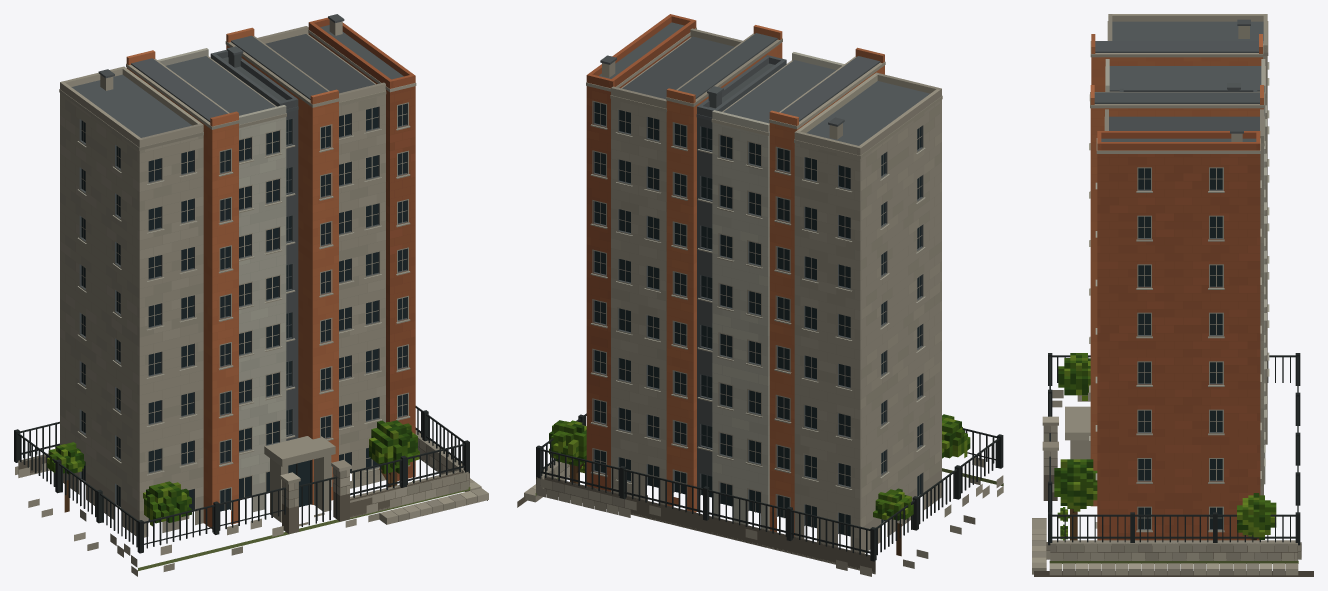
File: SM_StreetFrontage_128.fbx
The picture shows the model from 3 angles, left to right: view 1: azimuth 30°, elevation 25°; view 2: azimuth 150°, elevation 25°; view 3: azimuth 270°, elevation 25°; orthographic projection. The views are drawn at different scales.
Visible parts, largest first — view 1: SM_StreetFrontage_128; view 2: SM_StreetFrontage_128; view 3: SM_StreetFrontage_128.
Boxes of the visible parts, bbox=[...] form: SM_StreetFrontage_128: bbox=[14, 14, 488, 576]; SM_StreetFrontage_128: bbox=[517, 14, 1003, 576]; SM_StreetFrontage_128: bbox=[1032, 14, 1313, 576].
Bounding box in the file's own units: 32 × 21.95 × 36.32.
